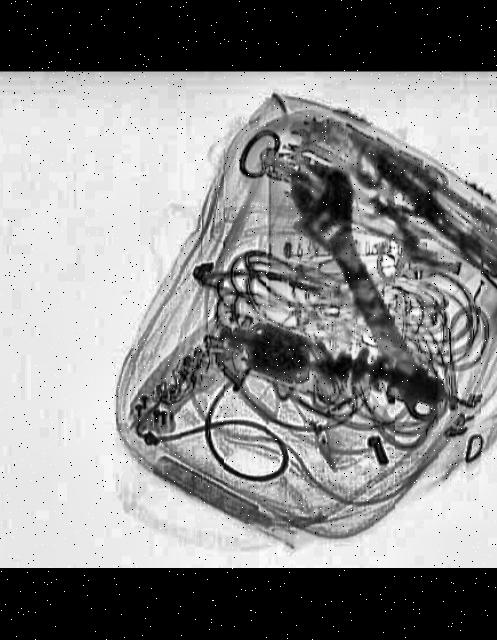Pliers: (331, 117, 497, 254)
Wrench: (266, 154, 461, 434)
